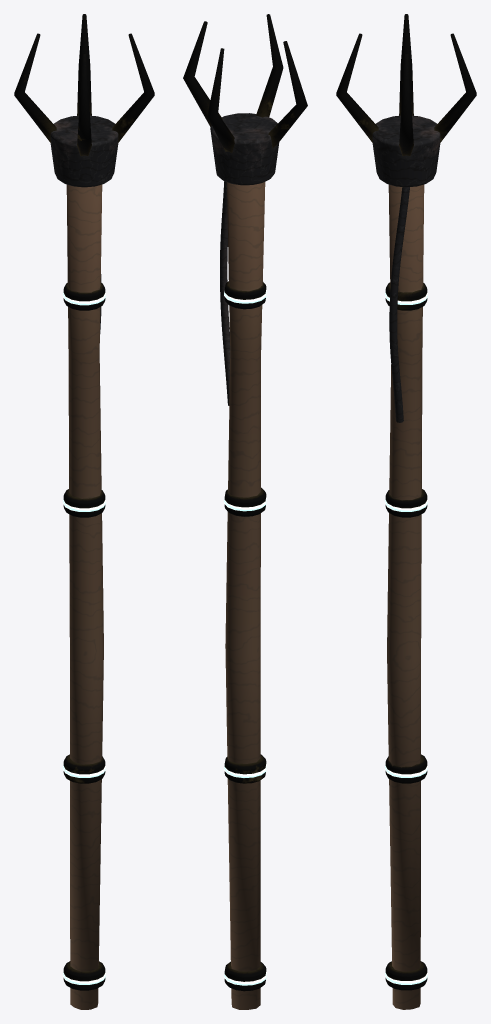
Rendered from baston.glb.
3 views of the same model, side by side, from view 1: azimuth 90°, elevation 25°; view 2: azimuth 150°, elevation 25°; view 3: azimuth 270°, elevation 25° (orthographic).
Visible parts, largest first — view 1: baston; view 2: baston; view 3: baston.
Part boxes in pixels (left/top/right/bottom): baston: left=14, top=14, right=154, bottom=1009; baston: left=183, top=14, right=307, bottom=1009; baston: left=336, top=14, right=476, bottom=1009.
Size of the model in its own units: 0.2154 by 1.64 by 0.2154.
Materials: 2 (1 with a texture image).
